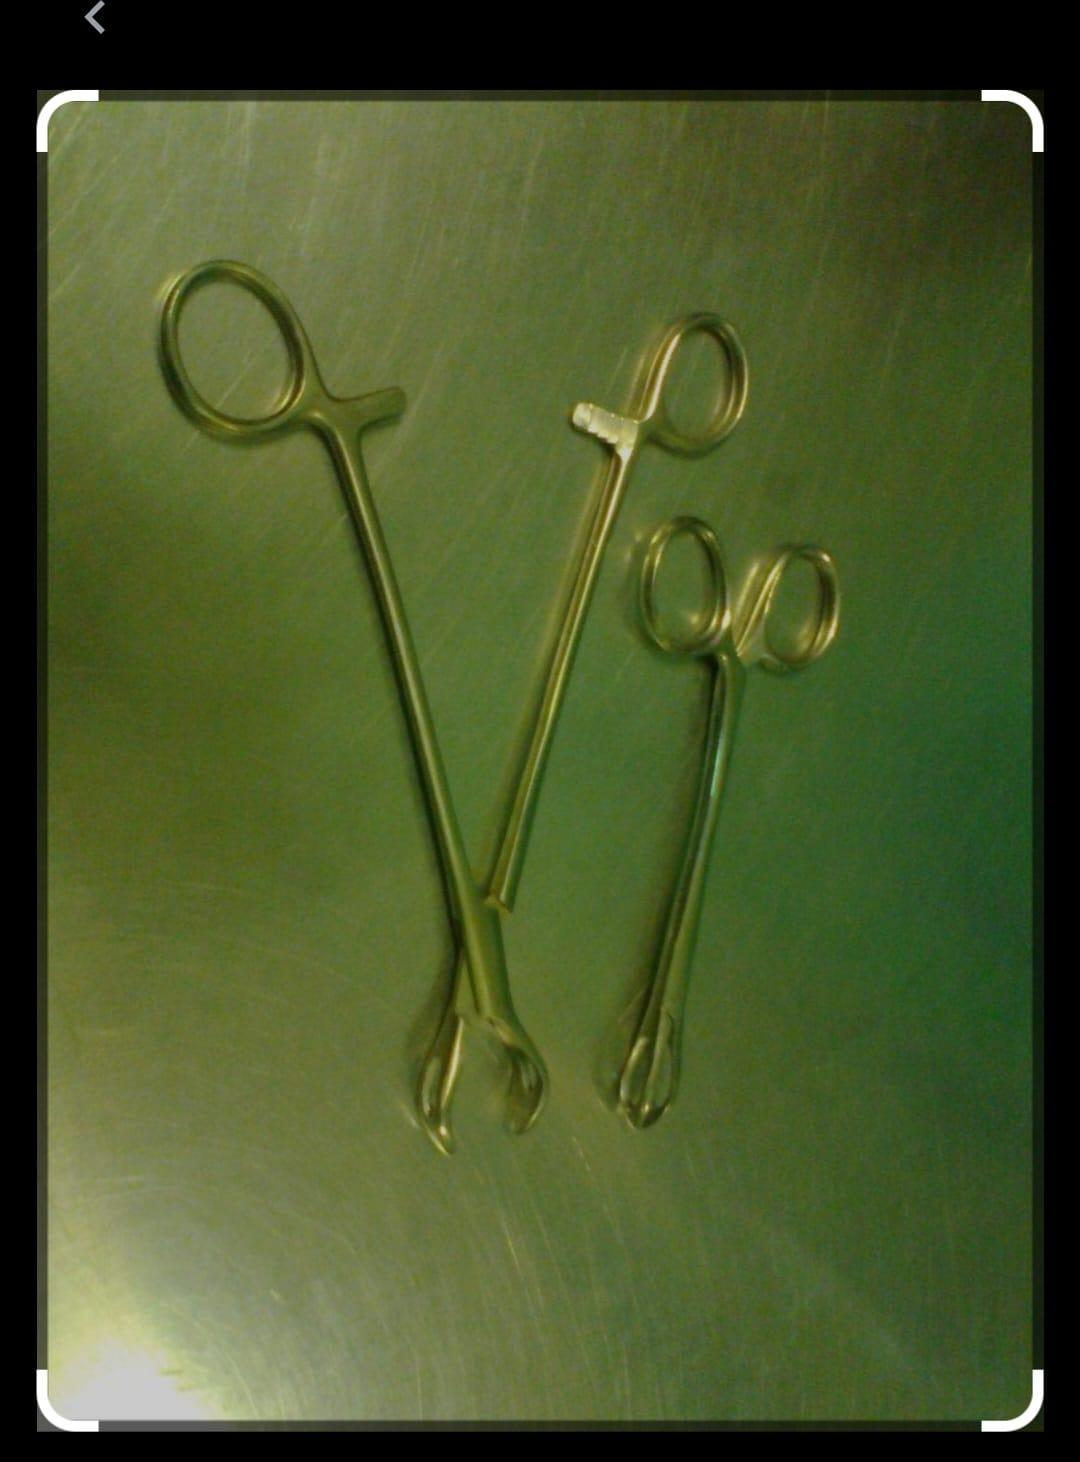Lane Tissue Forceps: (154, 248, 758, 1158), (598, 518, 848, 1126)
